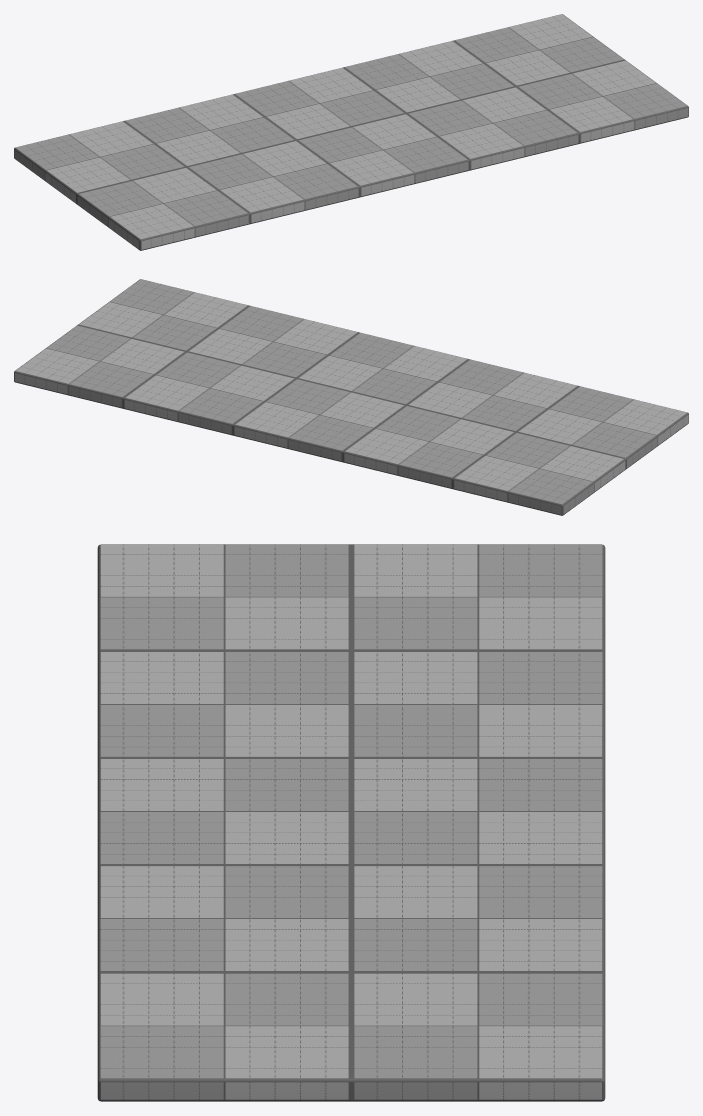
Rendered from Floor5x0x2.fbx.
3 renders of one model, top to bottom at view 1: azimuth 30°, elevation 25°; view 2: azimuth 150°, elevation 25°; view 3: azimuth 270°, elevation 25°, orthographic. The views are drawn at different scales.
Parts seen in each view (by area): view 1: Floor5x0x2; view 2: Floor5x0x2; view 3: Floor5x0x2.
Part boxes in pixels (<box>): Floor5x0x2: <box>14,14,688,250</box>; Floor5x0x2: <box>14,279,688,515</box>; Floor5x0x2: <box>97,544,605,1101</box>.
Bounding box in the file's own units: 500 × 10 × 200.
